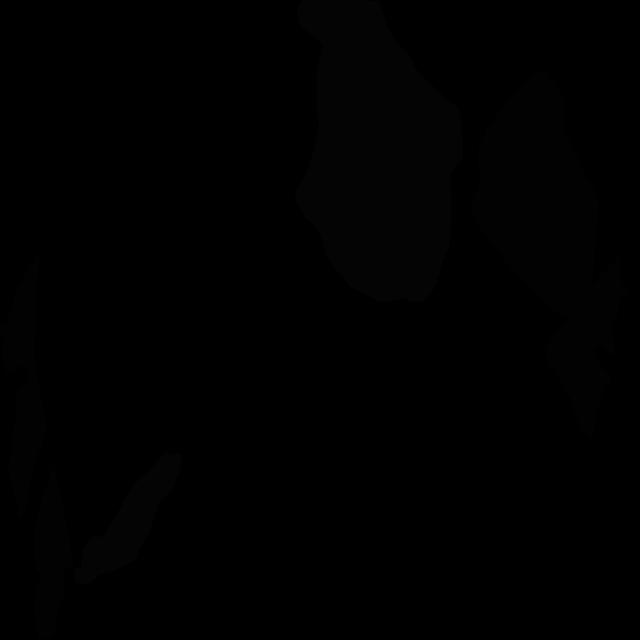cardboard: (471, 69, 599, 321), (544, 255, 628, 441), (0, 250, 48, 519), (34, 463, 74, 640)
soft_plastic: (295, 0, 463, 303), (74, 451, 183, 585)
